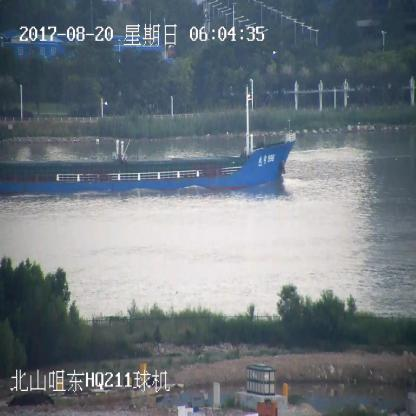Bulk Carrier: (0, 104, 293, 196)
